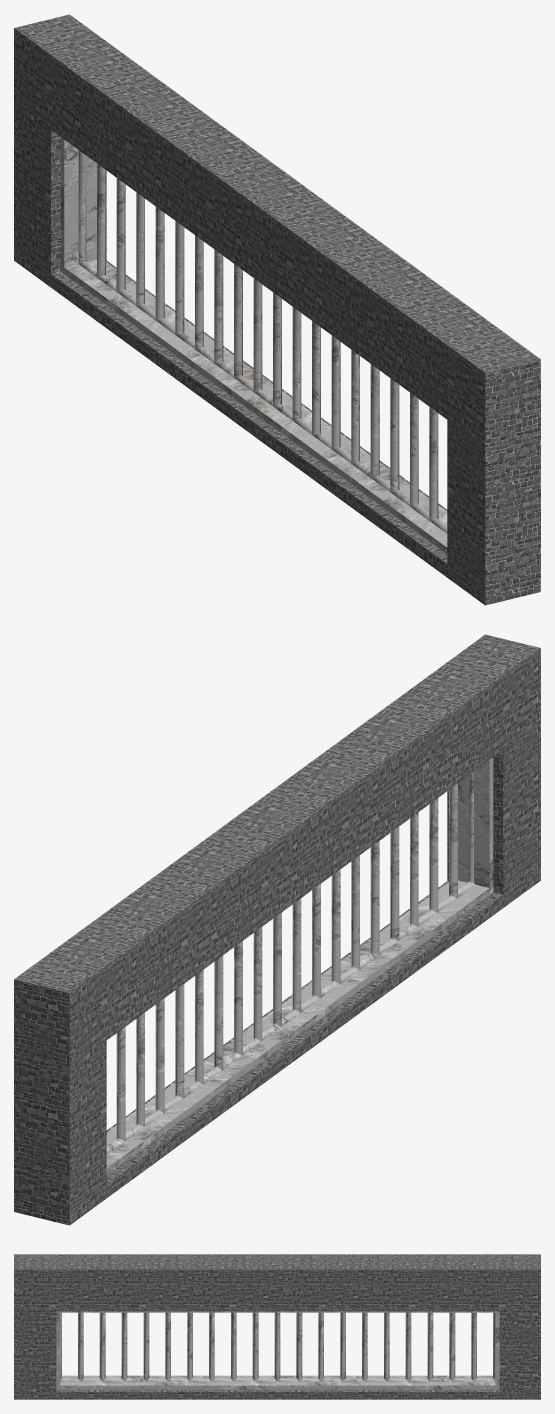
File: wall with bars.fbx
3 renders of one model, top to bottom at view 1: azimuth 30°, elevation 25°; view 2: azimuth 150°, elevation 25°; view 3: azimuth 270°, elevation 25°, orthographic. The views are drawn at different scales.
Parts seen in each view (by area): view 1: Wall_1, Bars, Rim; view 2: Wall_1, Bars, Rim; view 3: Wall_1, Bars, Rim.
Boxes of the visible parts, x1=… form: Wall_1: x1=14, y1=14, x2=540, y2=605; Bars: x1=78, y1=150, x2=447, y2=533; Rim: x1=60, y1=137, x2=447, y2=553; Wall_1: x1=14, y1=634, x2=540, y2=1225; Bars: x1=106, y1=772, x2=475, y2=1154; Rim: x1=106, y1=758, x2=493, y2=1174; Wall_1: x1=14, y1=1254, x2=540, y2=1399; Bars: x1=60, y1=1312, x2=495, y2=1381; Rim: x1=56, y1=1311, x2=499, y2=1389.
Size of the model in its own units: 5.43 by 21.66 by 79.57.
Materials: 2 (2 with a texture image).
